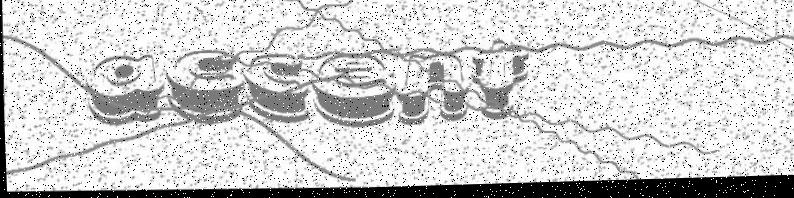a: (82, 52, 166, 128)
c: (163, 47, 246, 127), (242, 52, 312, 126)
e: (309, 51, 396, 132)
n: (393, 54, 468, 129)
t: (468, 39, 531, 124)
